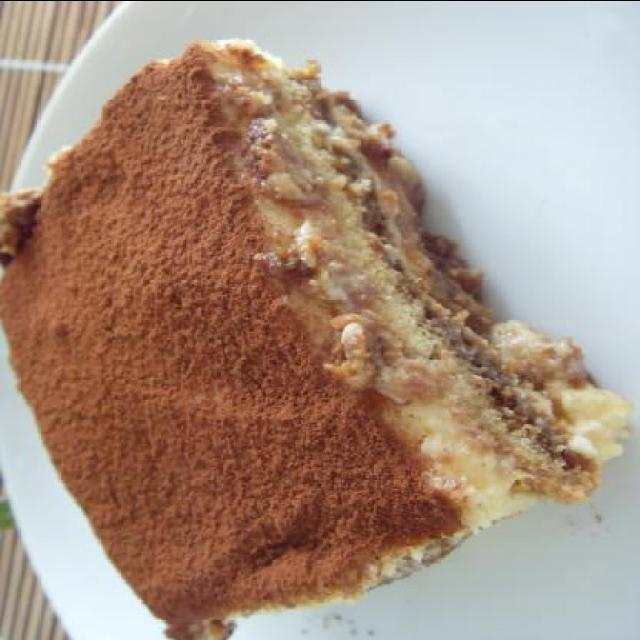Tiramisu: (19, 30, 587, 628)
